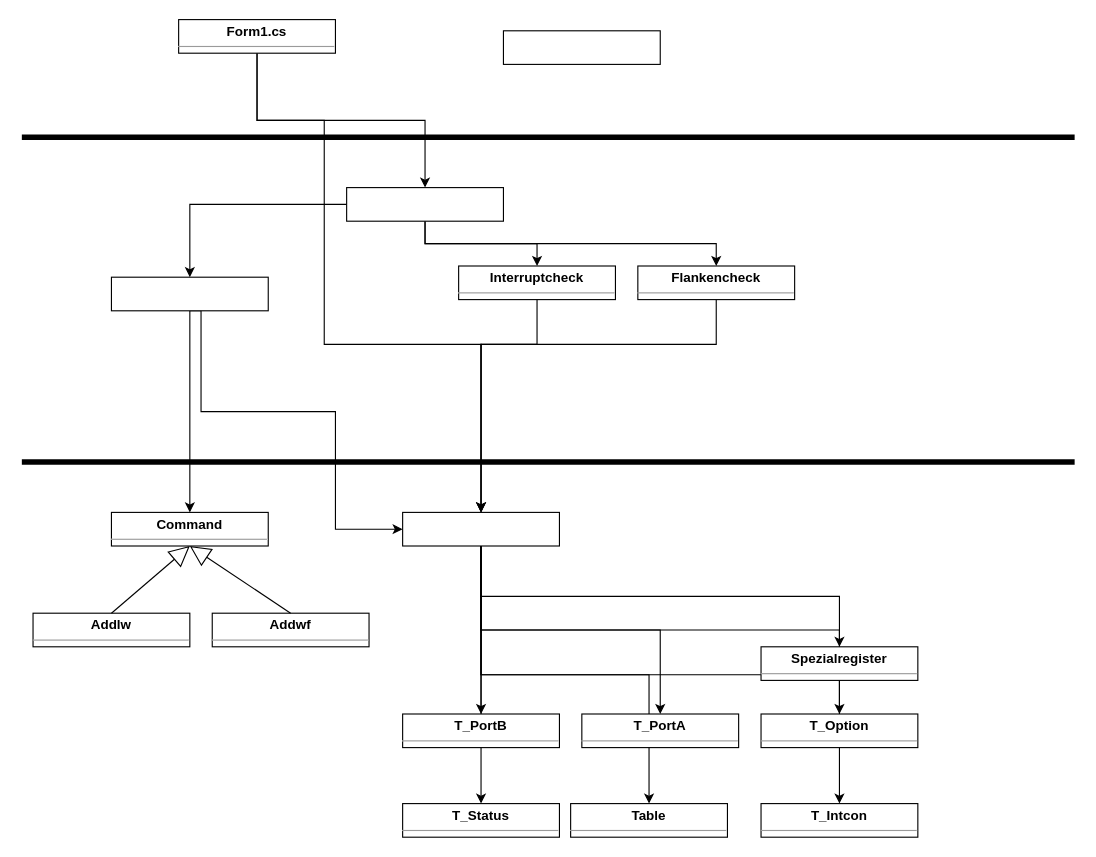
Some shapes in this 1096 by 857 pixel diagram are drawn without their labels. Here are the shapes that lost their labels. From the top down, the centre of each, then its label:
point 581,47: Program.cs
point 424,203: Simulator.cs
point 189,293: Decoder.cs
point 480,528: Memory
